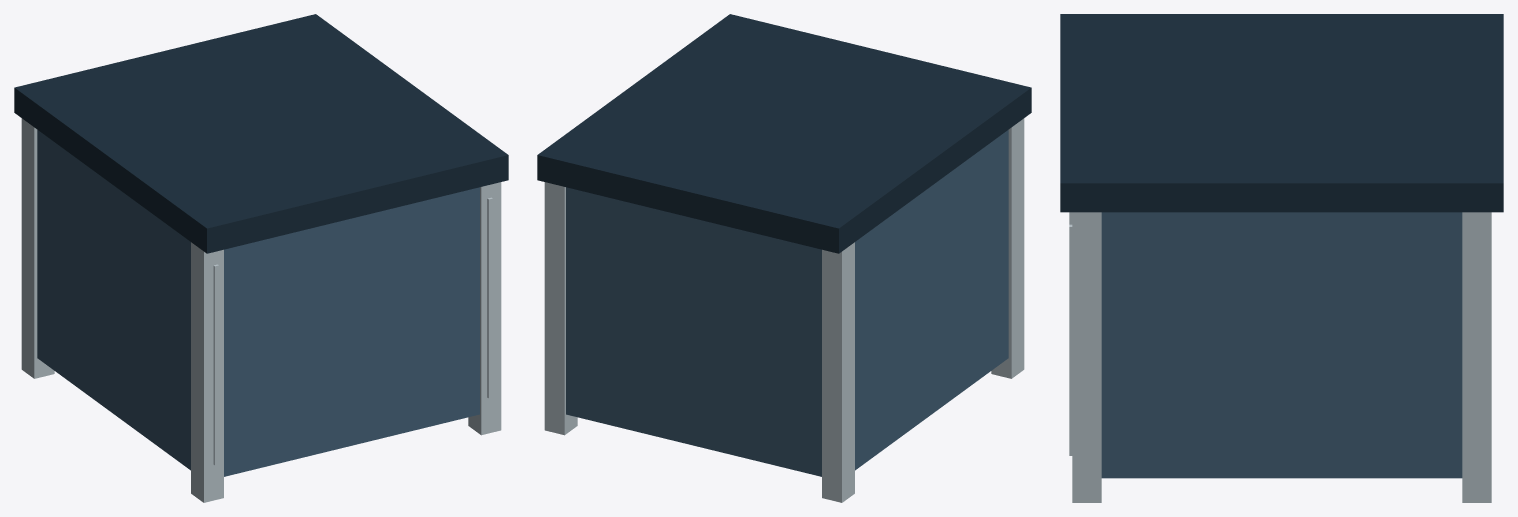
The model's file is 12_L73_WaferCarrierCassette.fbx.
The picture shows the model from 3 angles, left to right: view 1: azimuth 30°, elevation 25°; view 2: azimuth 150°, elevation 25°; view 3: azimuth 270°, elevation 25°; orthographic projection. The views are drawn at different scales.
Visible parts, largest first — view 1: WaferCarrierCassette; view 2: WaferCarrierCassette; view 3: WaferCarrierCassette.
Boxes of the visible parts, box(x1,y1,x2,y2) form: WaferCarrierCassette: box(14, 14, 508, 502); WaferCarrierCassette: box(537, 14, 1031, 502); WaferCarrierCassette: box(1060, 14, 1503, 502).
Bounding box in the file's own units: 150 × 132 × 166.
